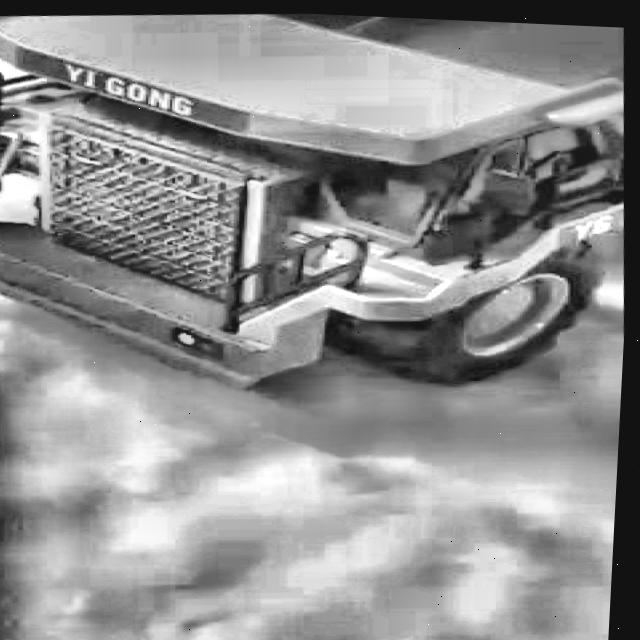dump_truck: (0, 0, 640, 399)
